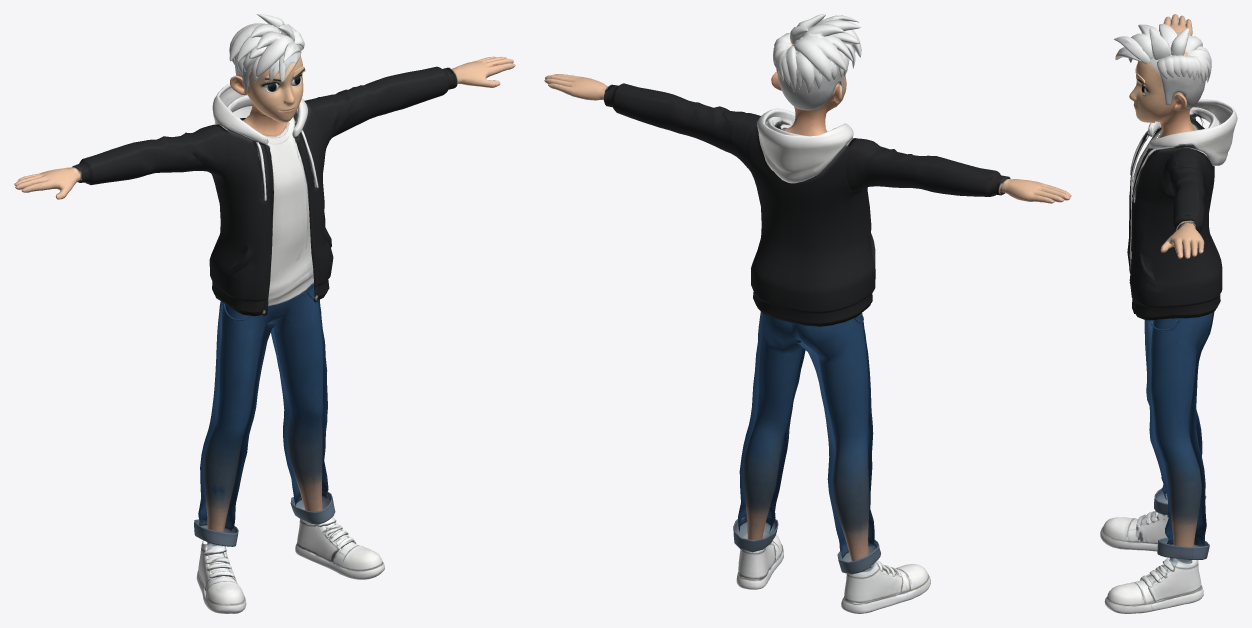
Rendered from toonstudio_casual.glb.
3 views of the same model, side by side, from view 1: azimuth 30°, elevation 25°; view 2: azimuth 150°, elevation 25°; view 3: azimuth 270°, elevation 25° (orthographic). The views are drawn at different scales.
Visible parts, largest first — view 1: tripo_4938ca29_a185_4eba_8041_141df3cb0312; view 2: tripo_4938ca29_a185_4eba_8041_141df3cb0312; view 3: tripo_4938ca29_a185_4eba_8041_141df3cb0312.
Part boxes in pixels (bbox=[...]): tripo_4938ca29_a185_4eba_8041_141df3cb0312: bbox=[14, 14, 515, 613]; tripo_4938ca29_a185_4eba_8041_141df3cb0312: bbox=[544, 14, 1071, 613]; tripo_4938ca29_a185_4eba_8041_141df3cb0312: bbox=[1100, 14, 1237, 613].
Bounding box in the file's own units: 1.62 × 1.7 × 0.3878.
1 material, 1 textured.
